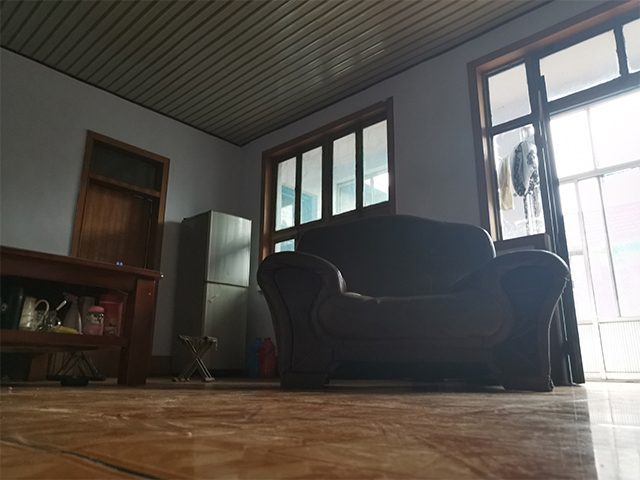sofa: (255, 211, 574, 392)
stool: (168, 333, 221, 383)
table: (1, 245, 166, 388)
